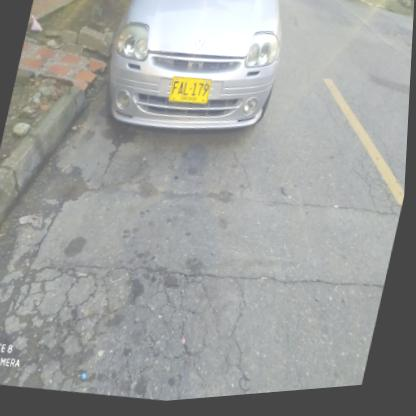placa: (166, 73, 216, 115)
